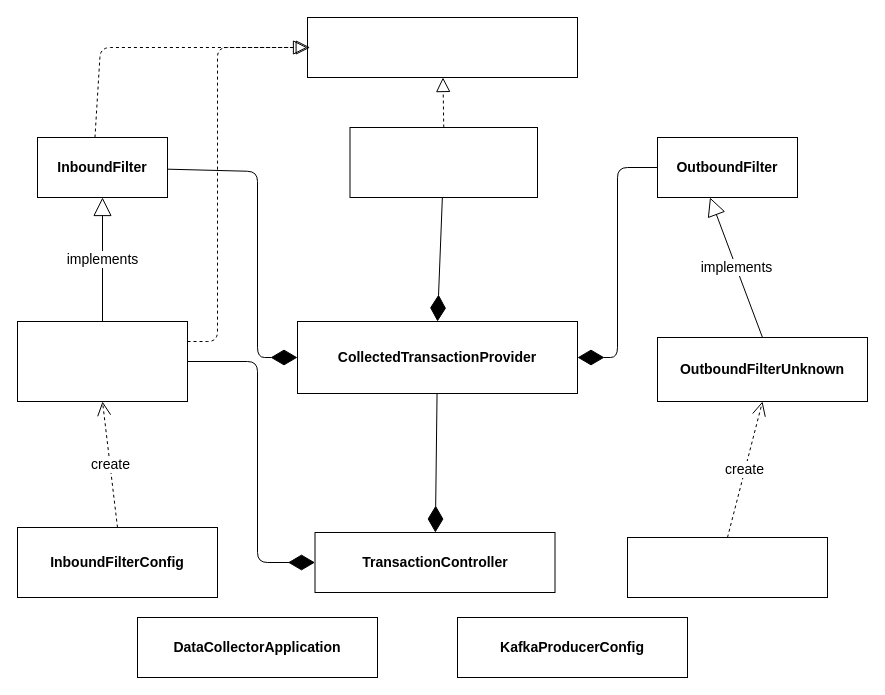
The diagram is 885 pixels wide and 695 high, and some of its shapes have lost their labels. Here are the shapes that lost their labels. From the top down, the centre of each, then its label:
At [442,47]: "InboundTransaction".
At [443,162]: "TransactionConverter".
At [102,361]: "InboundFIlterNull".
At [727,567]: "OutboundFilterConfig".
